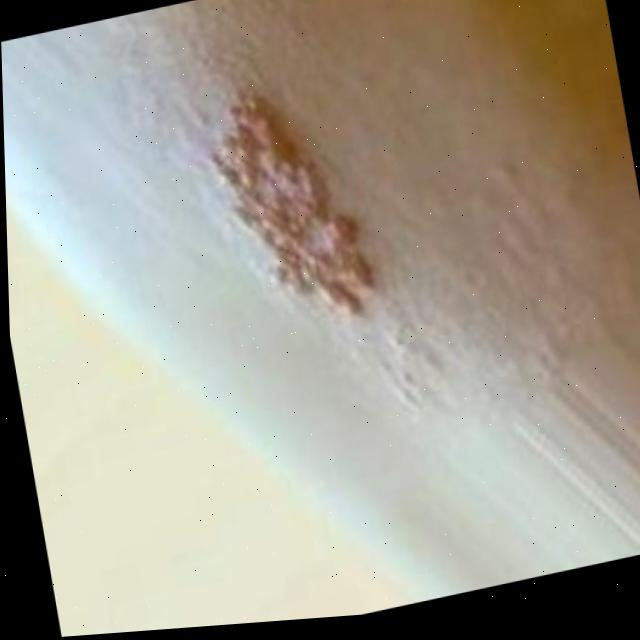Shingles: (184, 76, 389, 349)
